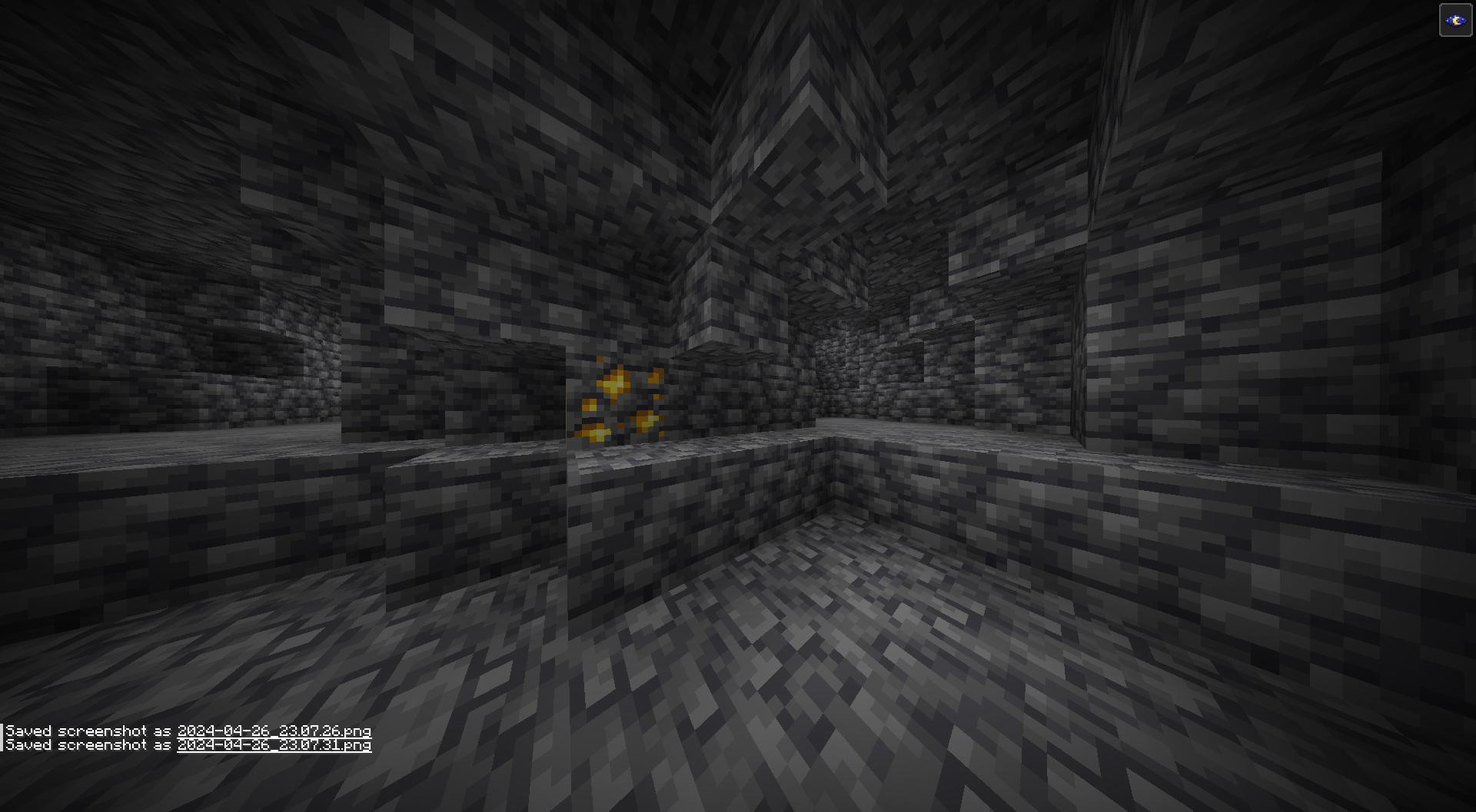gold ore: (570, 349, 669, 447)
